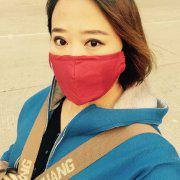OK: (49, 26, 125, 101)
